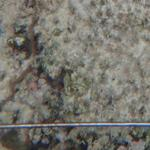dead: (5, 3, 139, 145)
